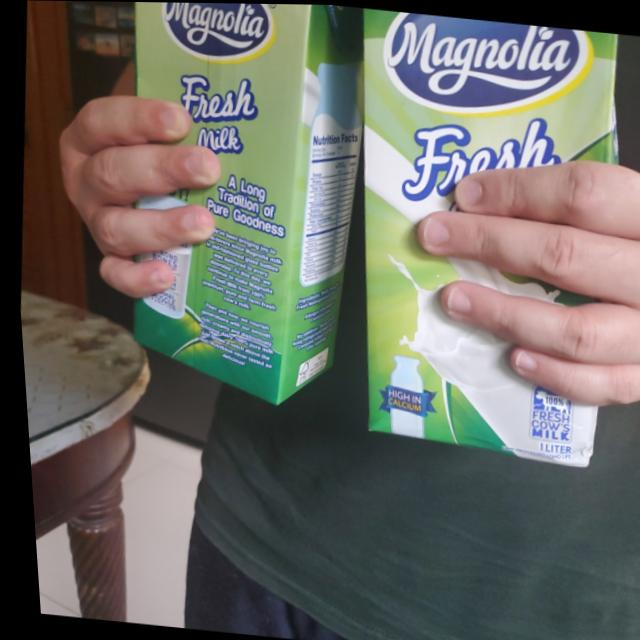milk: (325, 6, 640, 465), (97, 1, 383, 413)
